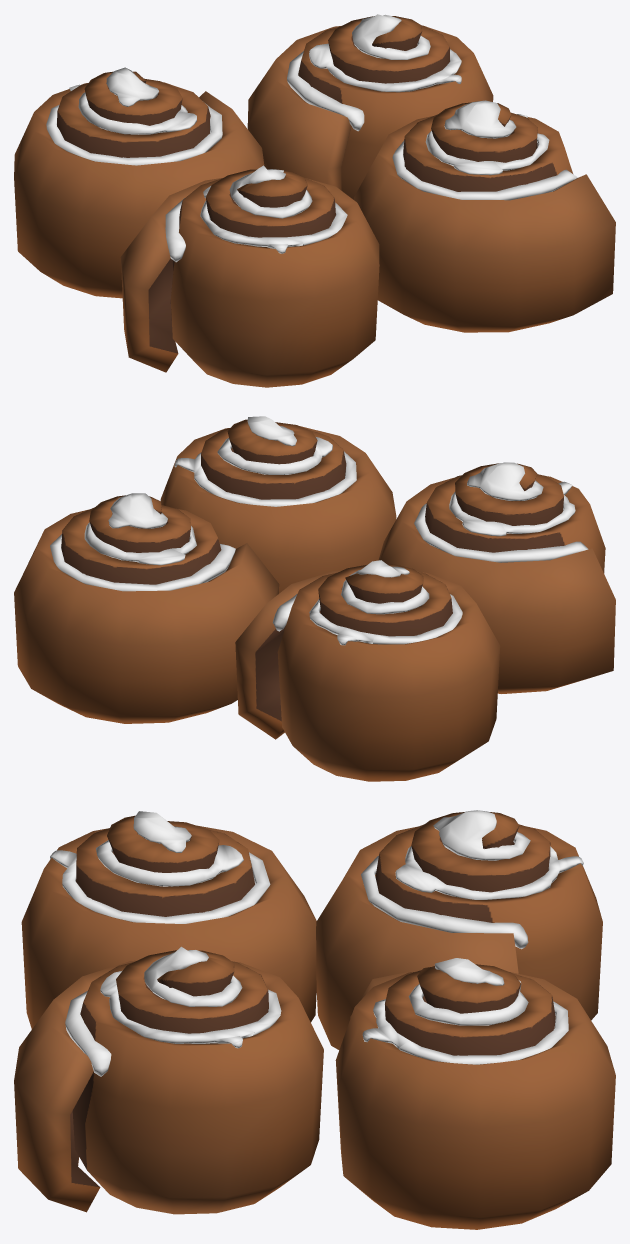
The model's file is Cinnamon_Rolls_texture_test.fbx.
The picture shows the model from 3 angles, top to bottom: view 1: azimuth 30°, elevation 25°; view 2: azimuth 150°, elevation 25°; view 3: azimuth 270°, elevation 25°; orthographic projection. The views are drawn at different scales.
Parts seen in each view (by area): view 1: cinnamon roll1, cinnamon roll4, cinnamon roll3, cinnamon roll2; view 2: cinnamon roll3, cinnamon roll2, cinnamon roll1, cinnamon roll4; view 3: cinnamon roll4, cinnamon roll2, cinnamon roll3, cinnamon roll1.
Boxes of the visible parts, x1,y1,x2,y2 form: cinnamon roll1: [120, 165, 379, 387]; cinnamon roll4: [354, 100, 615, 332]; cinnamon roll3: [14, 67, 264, 298]; cinnamon roll2: [247, 14, 493, 199]; cinnamon roll3: [235, 560, 500, 781]; cinnamon roll2: [14, 493, 279, 723]; cinnamon roll1: [378, 462, 615, 693]; cinnamon roll4: [160, 416, 396, 593]; cinnamon roll4: [14, 946, 323, 1214]; cinnamon roll2: [335, 958, 615, 1229]; cinnamon roll3: [316, 810, 602, 1049]; cinnamon roll1: [21, 811, 316, 1029].
Bounding box in the file's own units: 563 × 215 × 514.
Materials: 1 (1 with a texture image).
